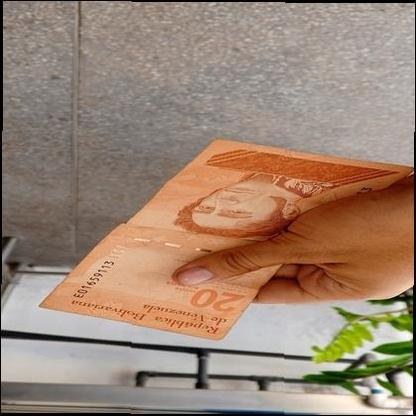vef_front: (38, 139, 414, 341)
